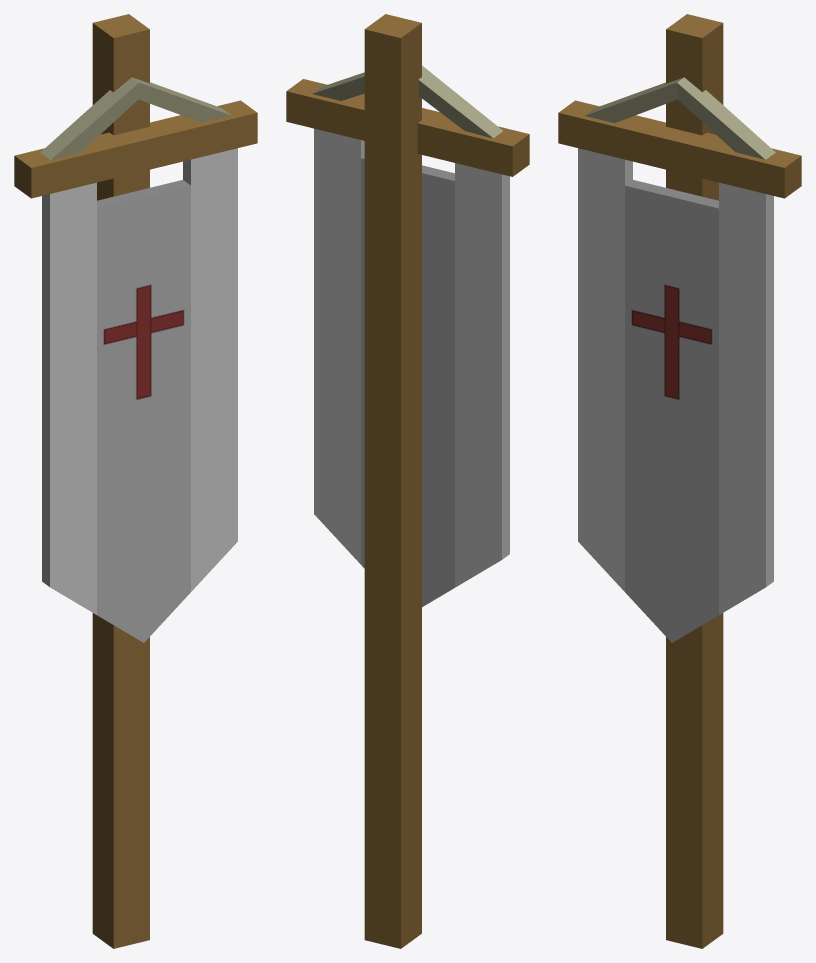
The model's file is Flag_02.gltf.
The picture shows the model from 3 angles, left to right: view 1: azimuth 30°, elevation 25°; view 2: azimuth 150°, elevation 25°; view 3: azimuth 330°, elevation 25°; orthographic projection.
Parts seen in each view (by area): view 1: SF_Prop_Flag_02; view 2: SF_Prop_Flag_02; view 3: SF_Prop_Flag_02.
Boxes of the visible parts, <box> form: SF_Prop_Flag_02: <box>14,14,257,948</box>; SF_Prop_Flag_02: <box>286,14,529,948</box>; SF_Prop_Flag_02: <box>558,14,801,948</box>.
Bounding box in the file's own units: 0.0142 × 0.0548 × 0.00367.
Materials: 1 (1 with a texture image).
